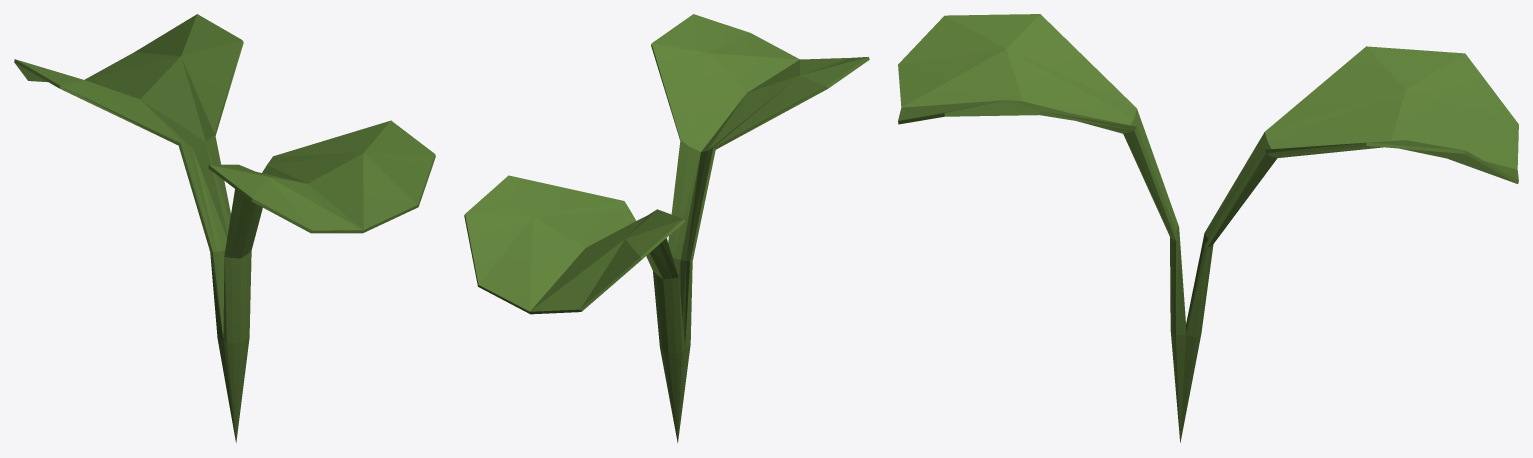
The model's file is Crop_Radish_STAGE_1_01.obj.
The picture shows the model from 3 angles, left to right: view 1: azimuth 30°, elevation 25°; view 2: azimuth 150°, elevation 25°; view 3: azimuth 270°, elevation 25°; orthographic projection. The views are drawn at different scales.
Visible parts, largest first — view 1: Crop_Radish_STAGE_1_01; view 2: Crop_Radish_STAGE_1_01; view 3: Crop_Radish_STAGE_1_01.
Part boxes in pixels (x1,y1,x2,y2): Crop_Radish_STAGE_1_01: [14, 14, 435, 443]; Crop_Radish_STAGE_1_01: [464, 14, 869, 443]; Crop_Radish_STAGE_1_01: [898, 14, 1518, 442].
Bounding box in the file's own units: 0.0992 × 0.1783 × 0.2632.
Materials: 1 (1 with a texture image).
